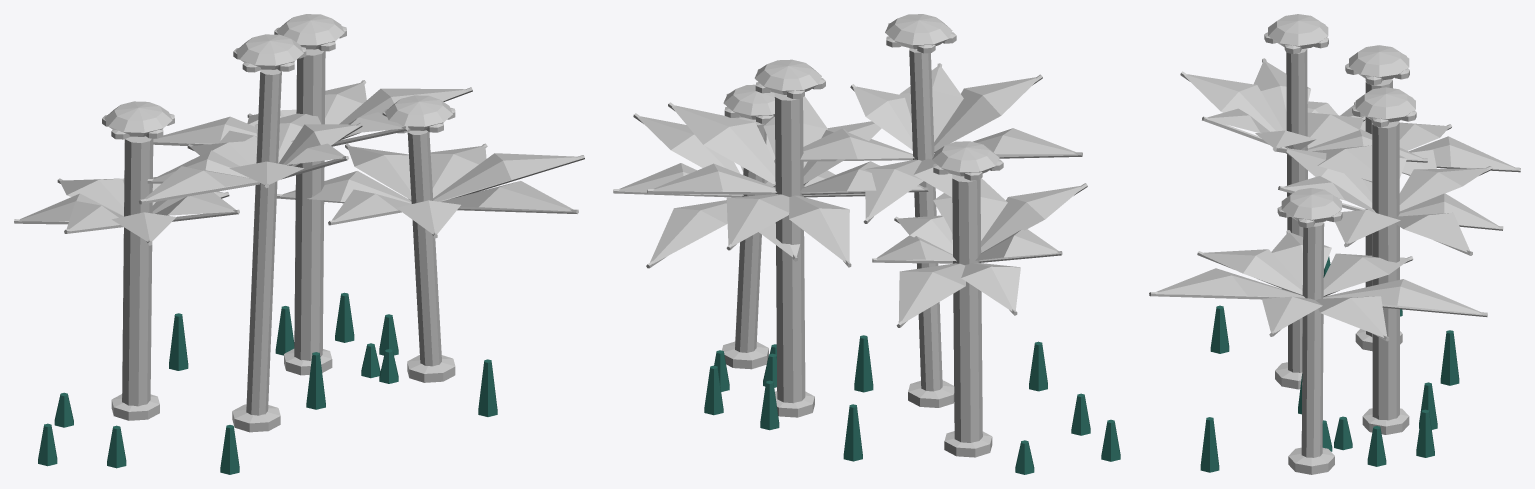
File: biomass_bower_a.obj
The picture shows the model from 3 angles, left to right: view 1: azimuth 30°, elevation 25°; view 2: azimuth 150°, elevation 25°; view 3: azimuth 270°, elevation 25°; orthographic projection. The views are drawn at different scales.
Parts seen in each view (by area): view 1: trunk_2, trunk_1, trunk_0, trunk_3, frond_3_4, frond_3_5, frond_3_2, frond_1_2, spore_head_1, spore_head_0, spore_head_3, frond_3_3 (+31 smaller); view 2: trunk_2, trunk_0, trunk_1, frond_2_5, frond_1_1, trunk_3, frond_0_5, frond_0_2, frond_2_2, frond_3_2, frond_2_3, frond_1_5 (+31 smaller); view 3: trunk_2, trunk_3, trunk_1, frond_1_1, frond_3_5, frond_3_2, frond_2_2, frond_3_6, frond_3_1, frond_3_3, frond_0_5, frond_2_4 (+31 smaller).
Boxes of the visible parts, x1,y1,x2,y2 form: trunk_2: (294,49,325,360); trunk_1: (246,69,281,415); trunk_0: (122,136,153,406); trunk_3: (407,130,441,366); frond_3_4: (433,153,579,201); frond_3_5: (440,181,573,211); frond_3_2: (347,146,411,199); frond_1_2: (144,166,258,201); spore_head_1: (236,34,303,69); spore_head_0: (104,101,172,136); spore_head_3: (385,95,452,130); frond_3_3: (430,146,486,197); trunk_2: (774,93,805,403); trunk_0: (952,174,982,442); trunk_1: (909,48,942,391); frond_2_5: (672,105,775,185); frond_1_1: (934,77,1038,151); trunk_3: (735,118,766,352); frond_0_5: (898,263,965,323); frond_0_2: (981,186,1083,252); frond_2_2: (789,195,849,262); frond_3_2: (650,200,727,263); frond_2_3: (726,194,789,246); frond_1_5: (800,128,914,159); trunk_2: (1372,121,1399,420); trunk_3: (1301,222,1324,457); trunk_1: (1286,48,1307,372); frond_1_1: (1184,74,1283,131); frond_3_5: (1156,268,1304,297); frond_3_2: (1323,279,1481,314); frond_2_2: (1399,168,1488,211); frond_3_6: (1201,249,1302,294); frond_3_1: (1323,253,1410,295); frond_3_3: (1316,296,1387,337); frond_0_5: (1409,136,1516,169); frond_2_4: (1392,212,1469,252).
Bounding box in the file's own units: 8.57 × 6.04 × 5.52.
